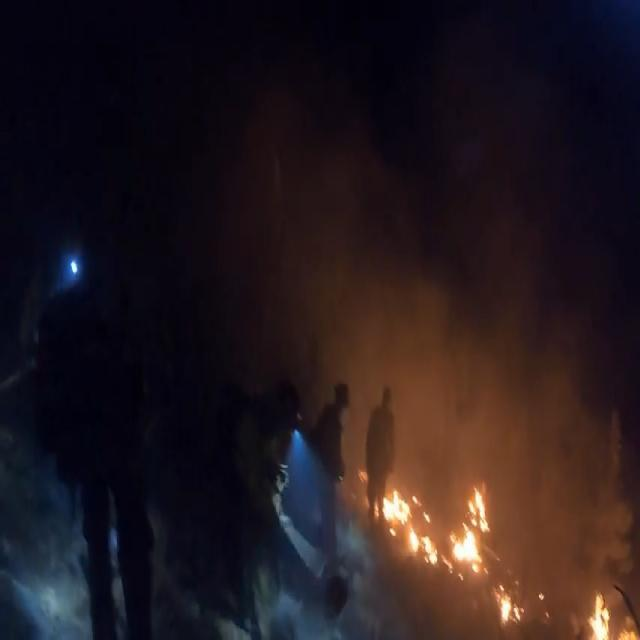Fire: (378, 470, 631, 640)
